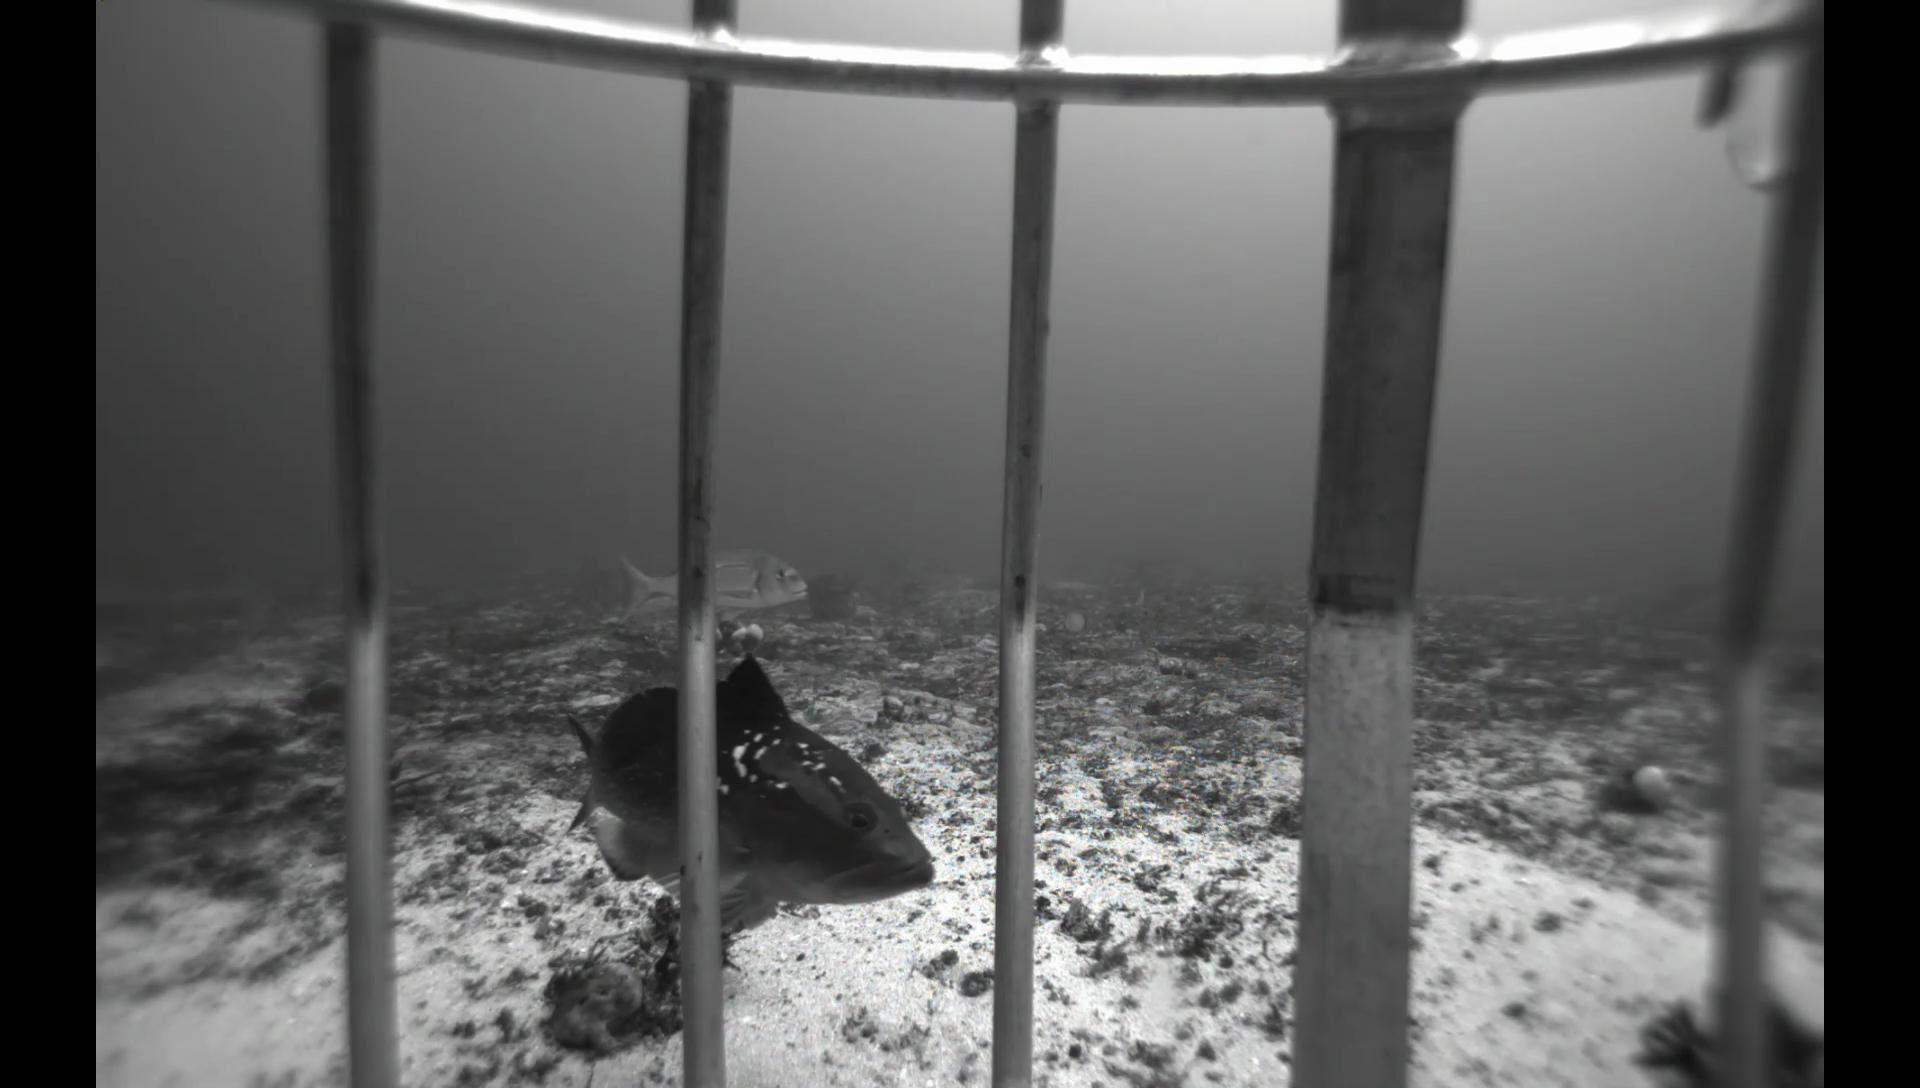CHAETODONOCELLATUS-170260307: (1051, 605, 1096, 636), (1130, 587, 1151, 612)
EPINEPHELUSMORIO-170021211: (527, 646, 960, 957)
HALICHOERESBIVITTATUS-170281202: (295, 670, 331, 687)
PAGRUSPAGRUS-170212302: (599, 524, 818, 628)
PRISTIGENYSALTA-170050401: (298, 679, 345, 717)
